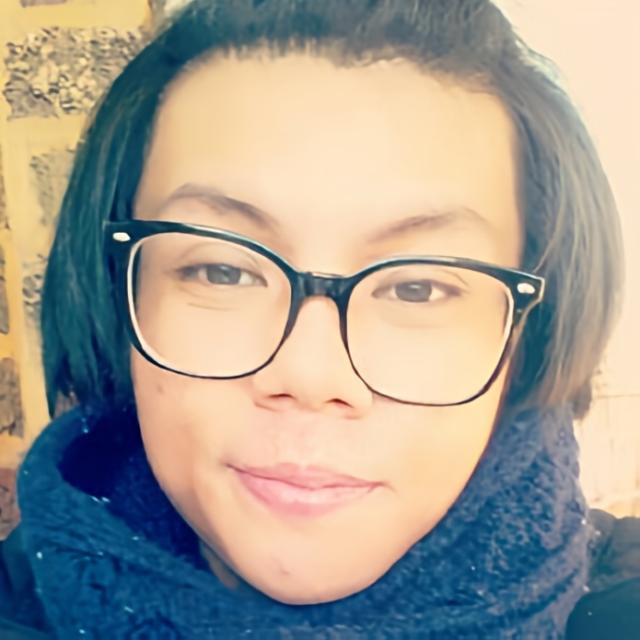content: (122, 36, 530, 608)
